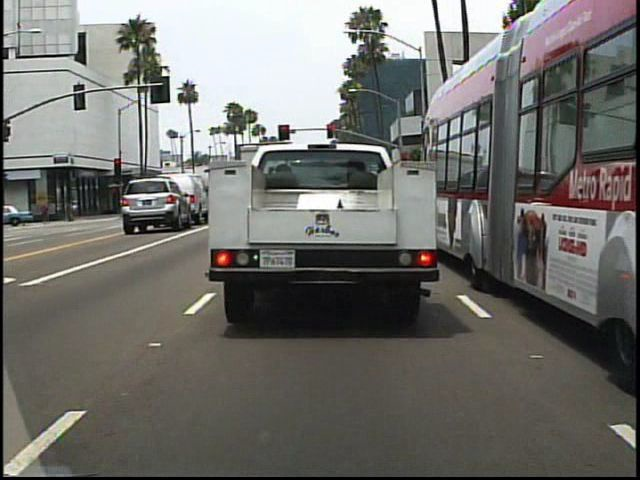person: (39, 194, 49, 226)
